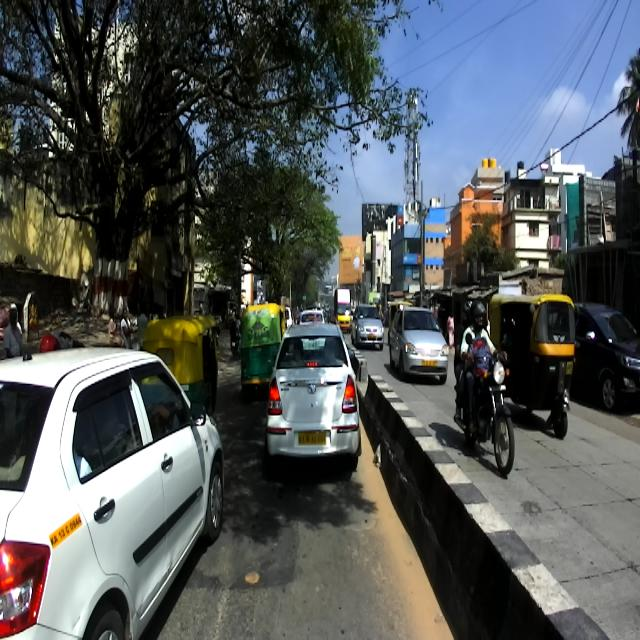car ahead at: (0, 337, 232, 639), (260, 319, 362, 479)
motorcycle ahead at: (454, 330, 524, 483)
